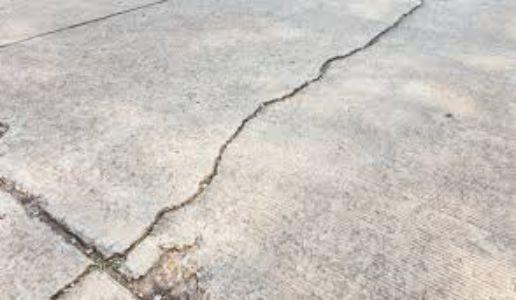crack: (127, 2, 434, 253), (0, 1, 184, 49), (42, 224, 127, 282), (46, 263, 98, 300)
pothole: (129, 236, 224, 300), (0, 168, 50, 222), (1, 117, 16, 140)
